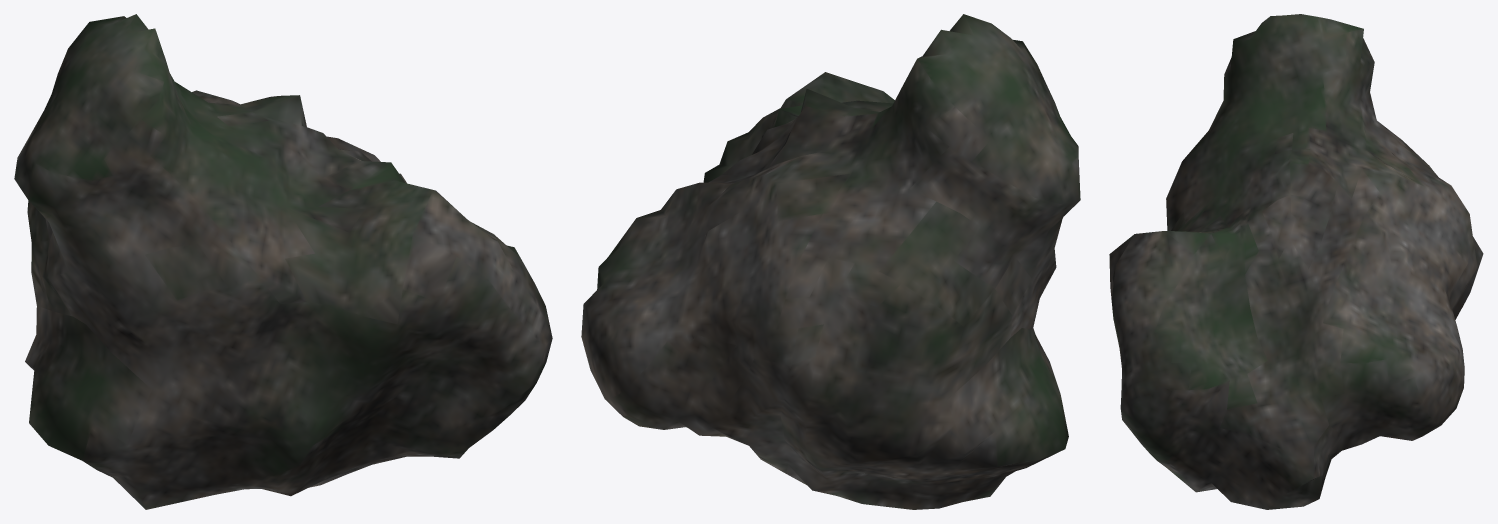
Rendered from Cave Stone 2.fbx.
3 renders of one model, left to right at view 1: azimuth 30°, elevation 25°; view 2: azimuth 150°, elevation 25°; view 3: azimuth 270°, elevation 25°, orthographic. The views are drawn at different scales.
Parts seen in each view (by area): view 1: rock.012; view 2: rock.012; view 3: rock.012.
Part boxes in pixels (x1=…): rock.012: x1=14, y1=14, x2=552, y2=509; rock.012: x1=581, y1=14, x2=1080, y2=509; rock.012: x1=1109, y1=14, x2=1483, y2=509.
Size of the model in its own units: 113 by 117 by 98.9.
1 material, 1 textured.
